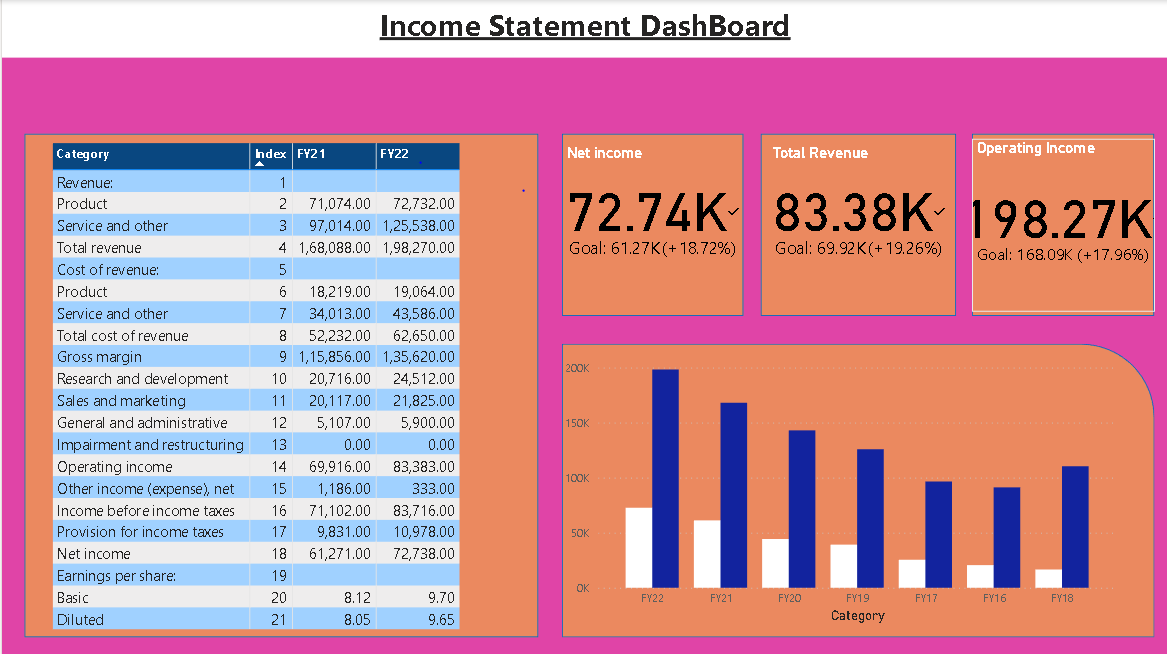

The dashboard page shown, as its layout file describes it:
{"tool":"powerbi","page":{"name":"Page 1","canvas":[1280,720],"ordinal":0},"visuals":[{"type":"shape","box":[24.7,146.8,564,553],"z":0},{"type":"shape","box":[614.8,377.4,650.4,322.5],"z":1000},{"type":"shape","box":[614.8,146.8,199,200.3],"z":2000},{"type":"shape","box":[832.9,146.8,214.1,200.3],"z":3000},{"type":"shape","box":[1064.8,146.8,200.3,200.3],"z":4000},{"type":"textbox","box":[0,0,1280.3,63.1],"z":5000},{"type":"tableEx","fields":{"Values":["Yearly Income Statements.Category","Yearly Income Statements.Index","Yearly Income Statements.FY21","Yearly Income Statements.FY22"]},"box":[49.4,152.3,463.8,547.5],"z":6000},{"type":"kpi","title":"Net income","fields":{"Indicator":["Sum(Net income.FY22)"],"Goal":["Sum(Net income.FY21)"],"TrendLine":["Net income.Category"]},"box":[614.8,157.8,199,189.4],"z":6001},{"type":"kpi","title":"Total Revenue","fields":{"Goal":["Sum(Operating income.FY21)"],"TrendLine":["Operating income.Category"],"Indicator":["Sum(Operating income.FY22)"]},"box":[841.2,157.8,199,189.4],"z":6002},{"type":"kpi","title":"Operating Income","fields":{"Indicator":["Sum(Total Revenue.FY22)"],"Goal":["Sum(Total Revenue.FY21)"],"TrendLine":["Total Revenue.Category"]},"box":[1064.8,152.3,200.3,189.4],"z":6003},{"type":"clusteredColumnChart","fields":{"Category":["Table.Category"],"Y":["Sum(Table.Net income)","Sum(Table.      Total revenue)"]},"box":[614.8,389.7,614.8,299.1],"z":6004}]}

Visuals, with their boxes in screenshot pixels (x1, y1, x2, y2), scaled from the page's 1280x720 canvas onto the 1167x654 screenshot:
shape: box=[23, 133, 537, 636]
shape: box=[561, 343, 1154, 636]
shape: box=[561, 133, 742, 315]
shape: box=[759, 133, 955, 315]
shape: box=[971, 133, 1153, 315]
textbox: box=[0, 0, 1166, 57]
tableEx - Yearly Income Statements.Category x Yearly Income Statements.Index: box=[45, 138, 468, 636]
"Net income" kpi: box=[561, 143, 742, 315]
"Total Revenue" kpi: box=[767, 143, 948, 315]
"Operating Income" kpi: box=[971, 138, 1153, 310]
clusteredColumnChart - Table.Category x Sum(Table.Net income): box=[561, 354, 1121, 626]
